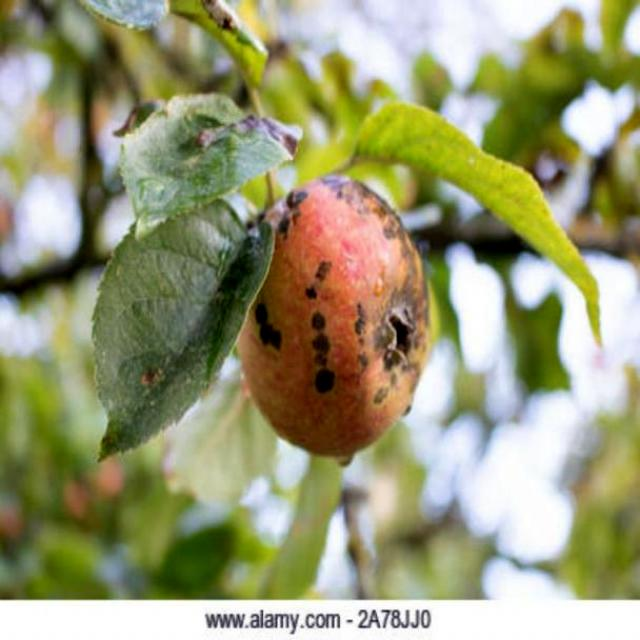SCAB: (218, 135, 451, 462)
